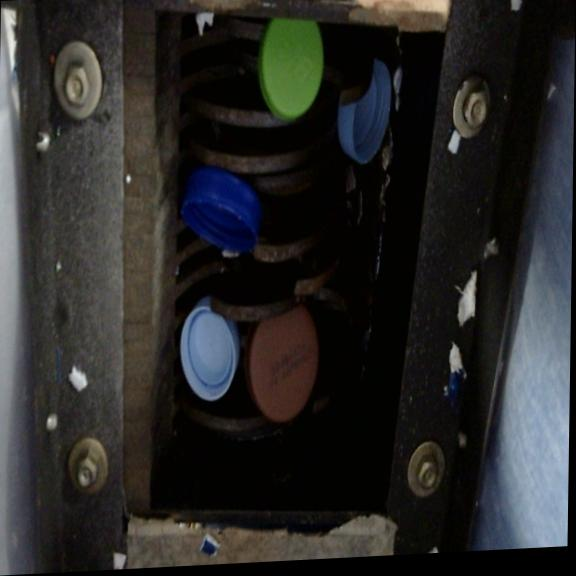Plastik: (242, 287, 323, 441), (247, 0, 321, 144), (168, 165, 262, 272), (172, 279, 234, 425), (324, 57, 388, 193)
